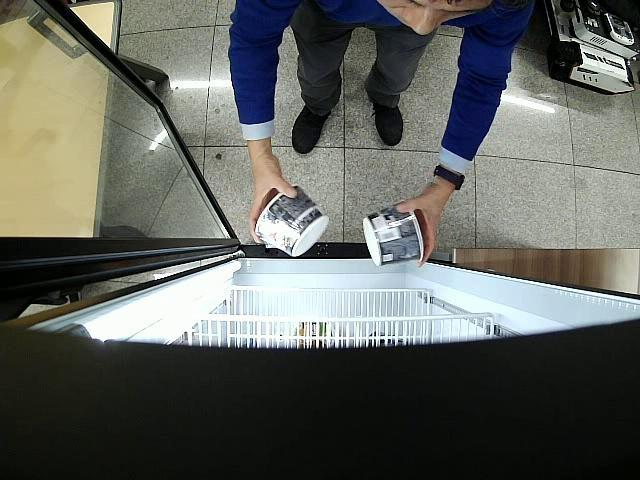07_buldak_L: (254, 185, 328, 256), (362, 206, 424, 266)
